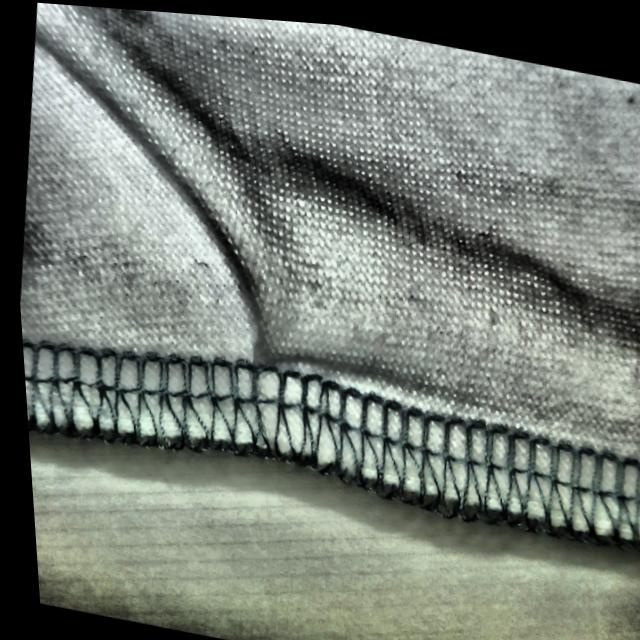seam: (182, 220, 413, 528)
